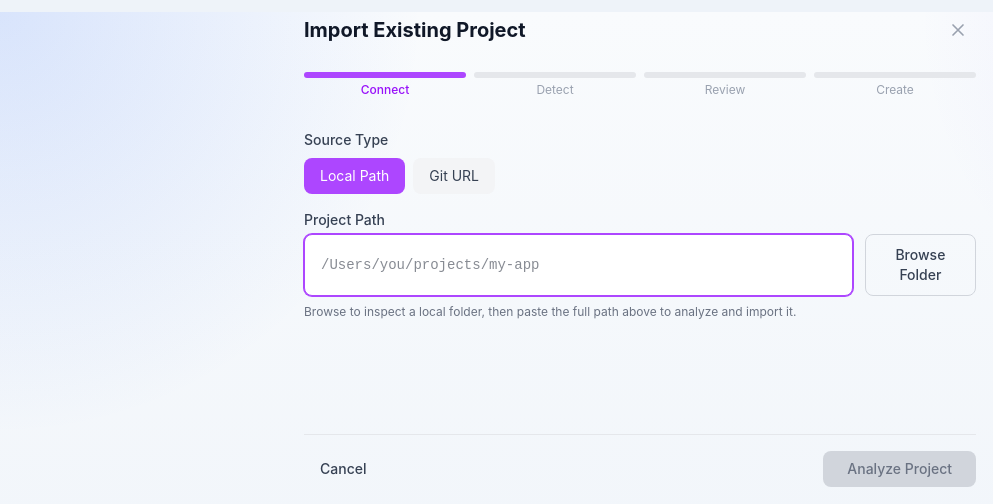
Test: ImportProjectWizard › records the selected folder name and keeps analyze disabled until a full path is entered
This screenshot has width=993, height=504.
Expected: the button "Analyze Project" is disabled, [823,451,976,487]
Click the button "Browse Folder" at (920, 265), box [865,234,976,296]
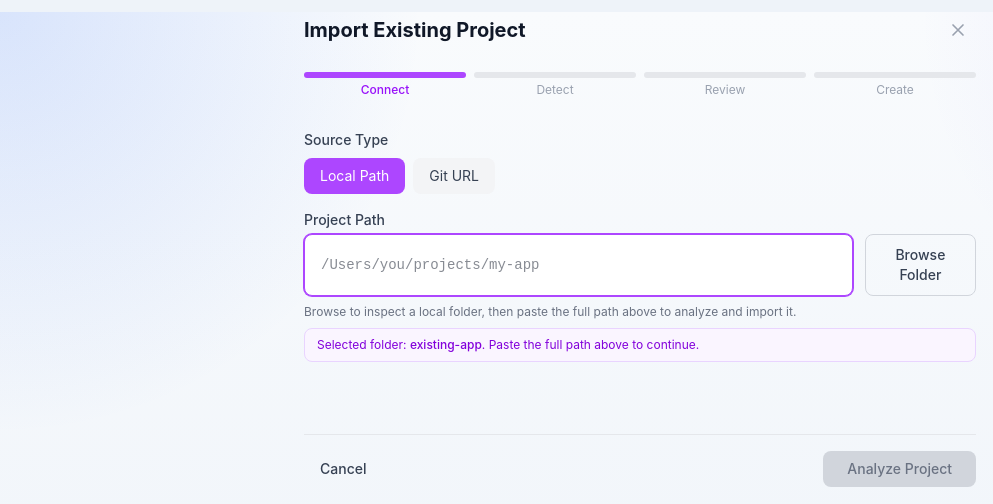
Expected: the button "Analyze Project" is disabled, [823,451,976,487]
Result: the text "Selected folder:" is shown at [317,337,410,352]
Result: the text "existing-app" is shown at [410,337,482,352]
Type "/Users/demo/existing-app" into the field labelled "Project Path" at (578, 265), box [304,234,853,296]
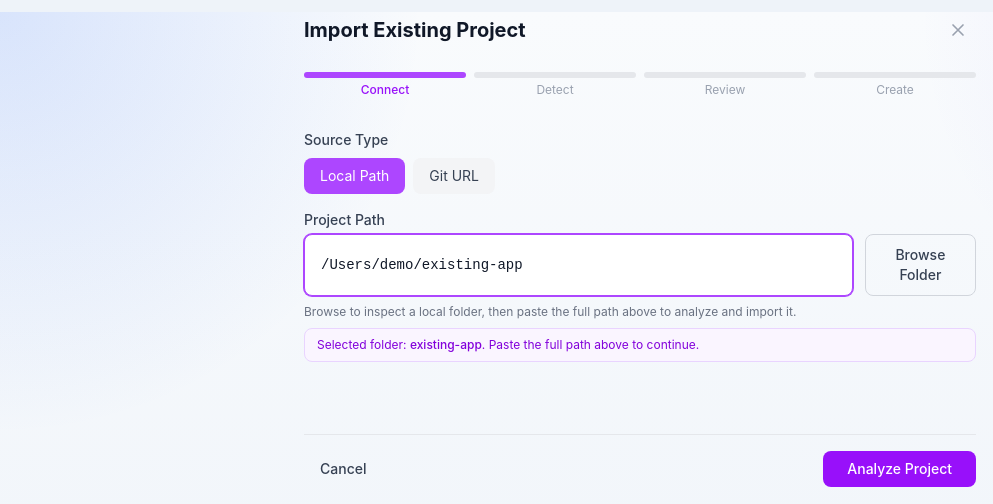
Result: the button "Analyze Project" is enabled at [823,451,976,487]
